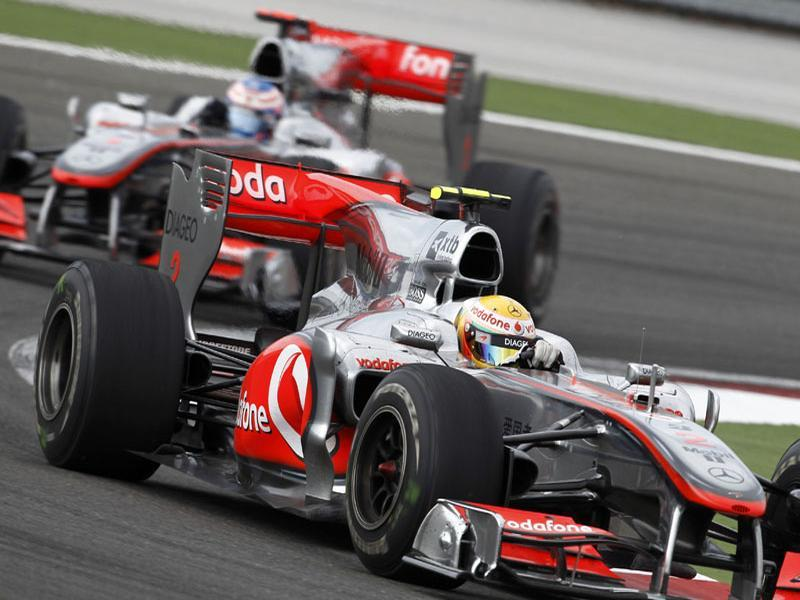f1: (46, 150, 800, 598), (1, 6, 494, 285)
